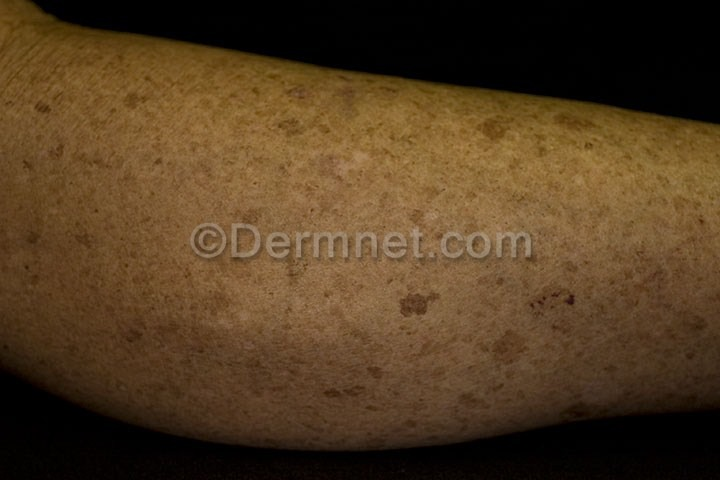Melasma: (576, 140, 674, 408), (496, 79, 687, 131)
